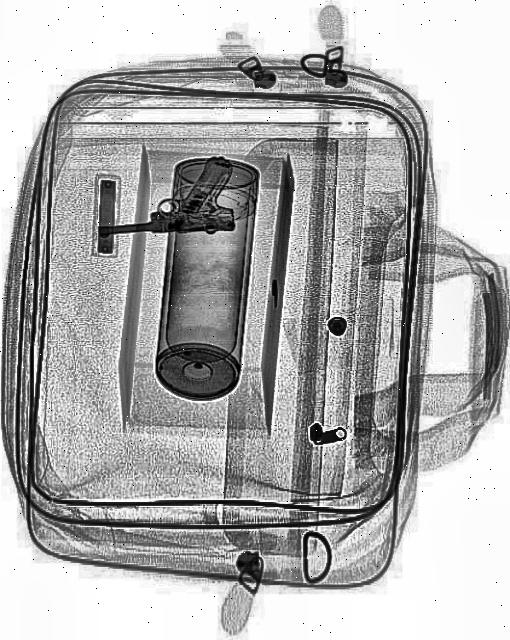Gun: (96, 158, 236, 242)
